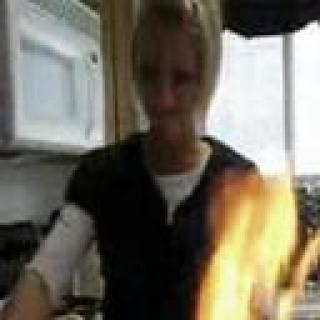fire: (163, 171, 316, 320)
